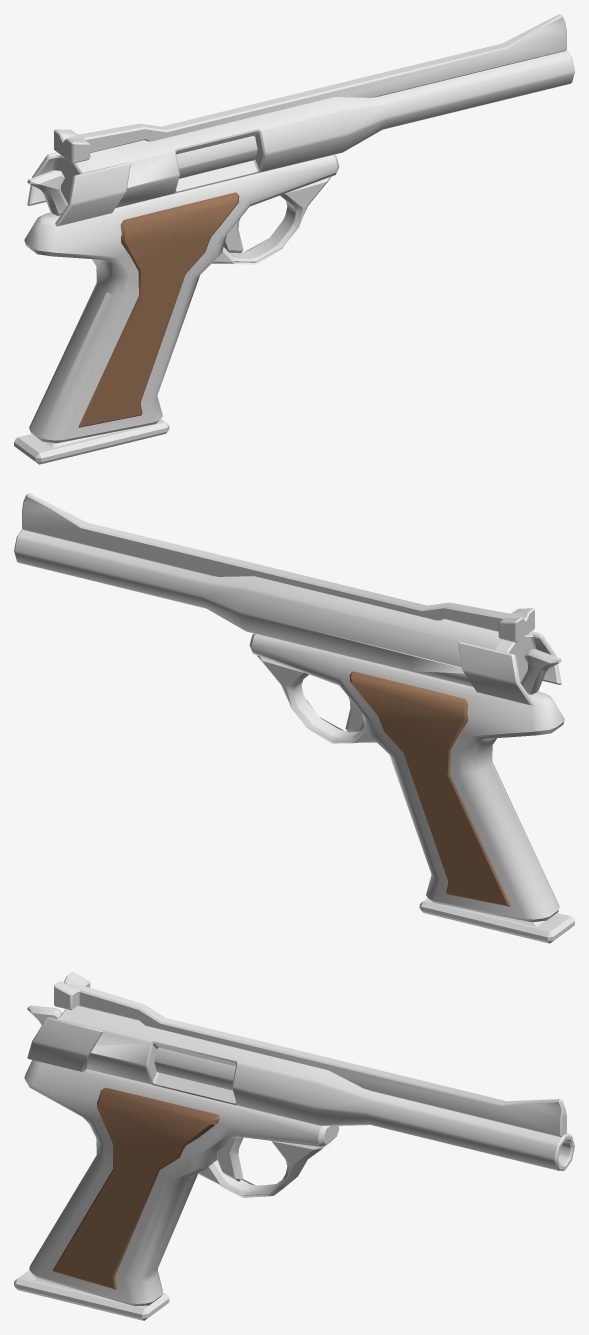
The model's file is AUTOMAG44_ensamblada.glb.
The picture shows the model from 3 angles, top to bottom: view 1: azimuth 30°, elevation 25°; view 2: azimuth 150°, elevation 25°; view 3: azimuth 330°, elevation 25°; orthographic projection.
Parts seen in each view (by area): view 1: guardamanos_canon, cuerpo, empunadura, cargador; view 2: guardamanos_canon, cuerpo, empunadura, cargador; view 3: guardamanos_canon, cuerpo, empunadura, cargador.
Boxes of the visible parts, box(x1,y1,x2,y2) form: guardamanos_canon: box(27, 14, 574, 226); cuerpo: box(24, 154, 339, 443); empunadura: box(78, 192, 239, 427); cargador: box(14, 419, 169, 464); guardamanos_canon: box(14, 493, 561, 705); cuerpo: box(249, 633, 564, 922); empunadura: box(349, 671, 510, 906); cargador: box(419, 898, 574, 943); guardamanos_canon: box(27, 972, 574, 1170); cuerpo: box(24, 1005, 339, 1306); empunadura: box(53, 1087, 219, 1289); cargador: box(14, 1270, 169, 1320).
Bounding box in the file's own units: 0.292 × 0.1611 × 0.0368.
